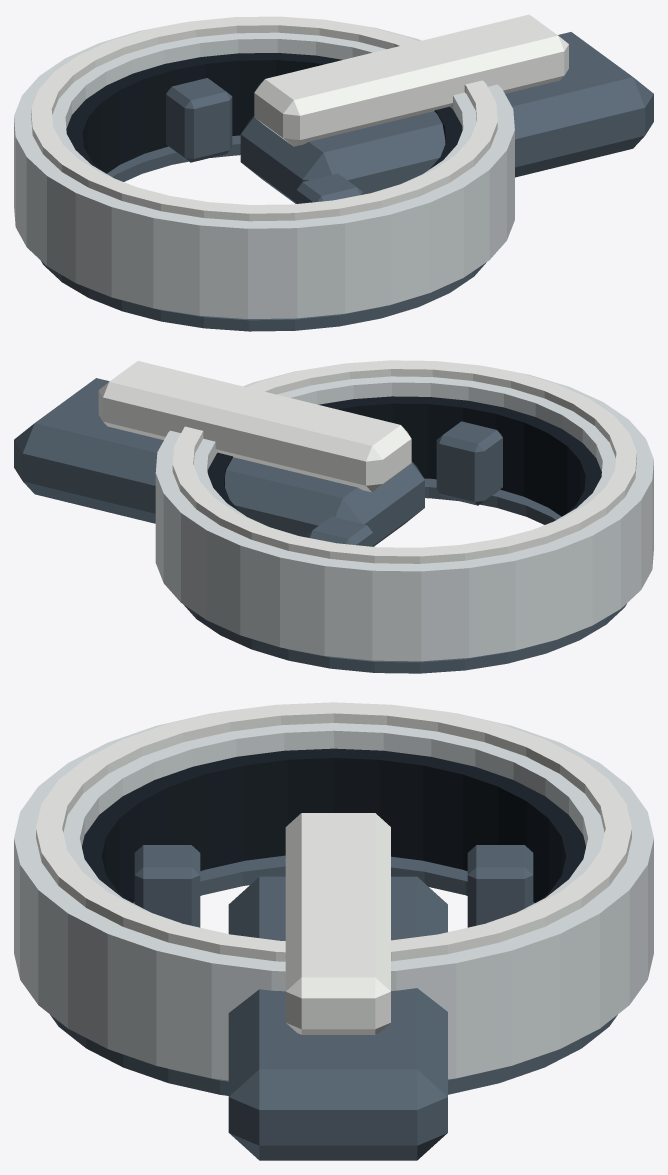
File: 03_left_housing.obj
3 views of the same model, one above another, from view 1: azimuth 30°, elevation 25°; view 2: azimuth 150°, elevation 25°; view 3: azimuth 270°, elevation 25° (orthographic). The views are drawn at different scales.
Visible parts, largest first — view 1: fragment_03_left_housing; view 2: fragment_03_left_housing; view 3: fragment_03_left_housing.
Part boxes in pixels (box(x1,y1,x2,y2)): fragment_03_left_housing: box(14, 14, 653, 331); fragment_03_left_housing: box(14, 360, 653, 673); fragment_03_left_housing: box(14, 702, 653, 1160).
Bounding box in the file's own units: 0.97 × 0.2215 × 0.73.
